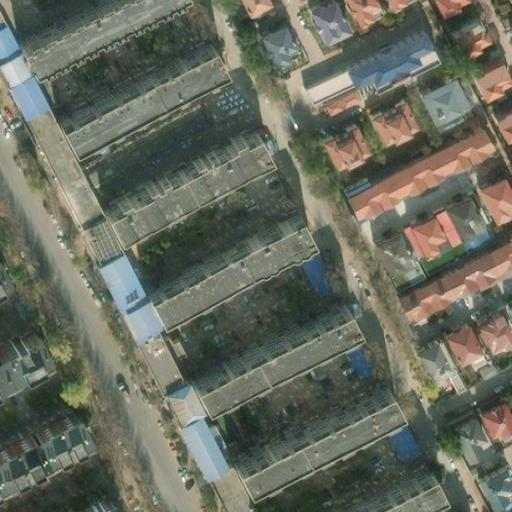building: (94, 124, 261, 229), (48, 36, 214, 140), (226, 382, 386, 483), (184, 300, 346, 399), (136, 210, 295, 310), (341, 127, 487, 216), (395, 235, 512, 322), (10, 0, 149, 65), (0, 406, 80, 483), (343, 30, 432, 91), (324, 463, 431, 512), (413, 76, 464, 126), (446, 417, 493, 470), (364, 96, 412, 143), (255, 21, 300, 71), (315, 122, 363, 168), (295, 246, 337, 298), (469, 311, 510, 360), (413, 341, 453, 389), (298, 65, 348, 102), (384, 418, 425, 463), (471, 467, 512, 511), (471, 401, 512, 445), (443, 194, 483, 239), (0, 324, 38, 370), (475, 176, 512, 220), (403, 214, 440, 258), (443, 328, 479, 373), (372, 233, 411, 274), (48, 487, 108, 512), (445, 17, 483, 56), (468, 60, 505, 99), (488, 106, 512, 144), (317, 88, 350, 115), (343, 0, 376, 26), (499, 300, 512, 332), (502, 393, 512, 417)
